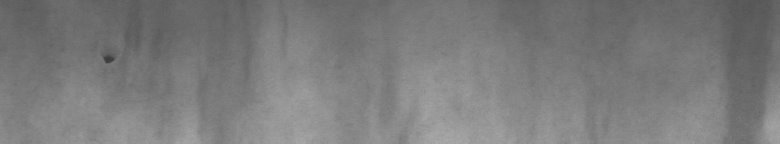fi: (98, 52, 120, 71)
